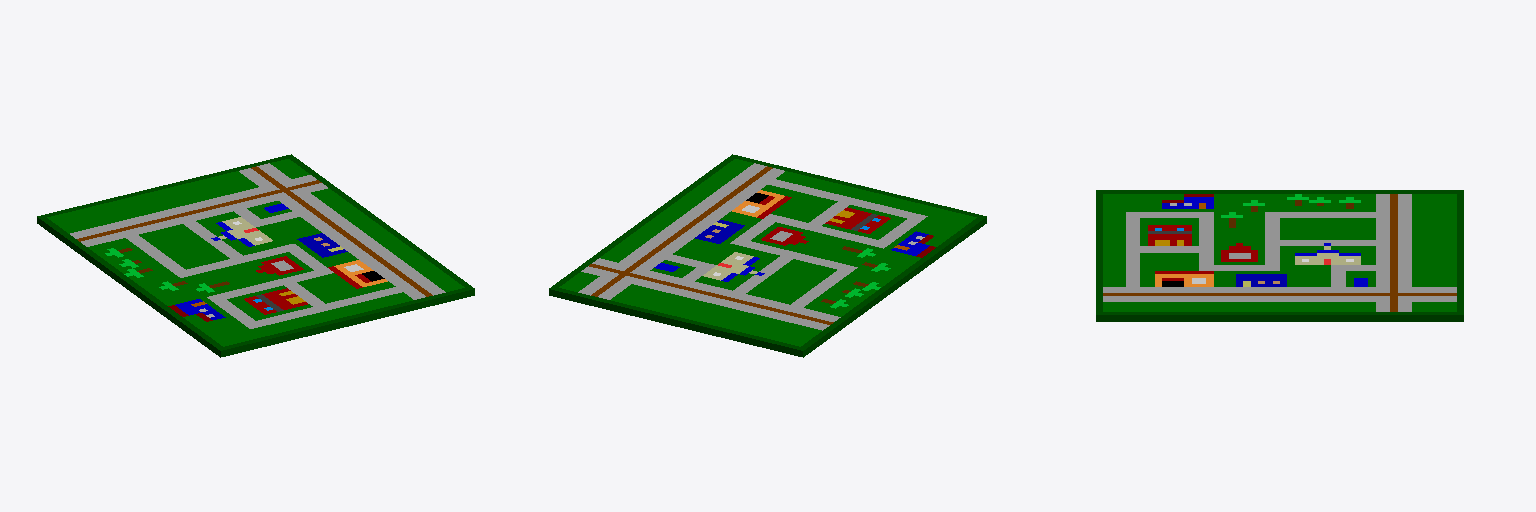
3 views of the same model, side by side, from view 1: azimuth 30°, elevation 25°; view 2: azimuth 150°, elevation 25°; view 3: azimuth 270°, elevation 25° (orthographic).
Parts seen in each view (by area): view 1: object 1; view 2: object 1; view 3: object 1.
Boxes of the visible parts, box(x1,y1,x2,y2) form: object 1: box(37, 154, 474, 357); object 1: box(549, 154, 986, 357); object 1: box(1096, 190, 1463, 321).
Bounding box in the file's own units: 4 × 0.1 × 5.
1 materials, 1 textured.